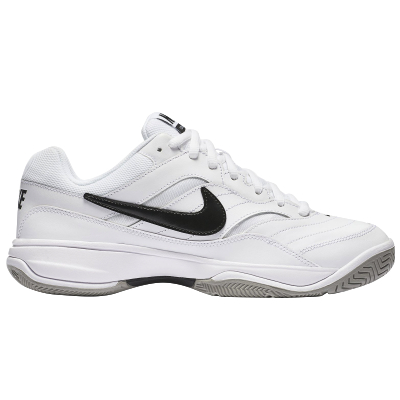nike: (83, 188, 231, 239)
